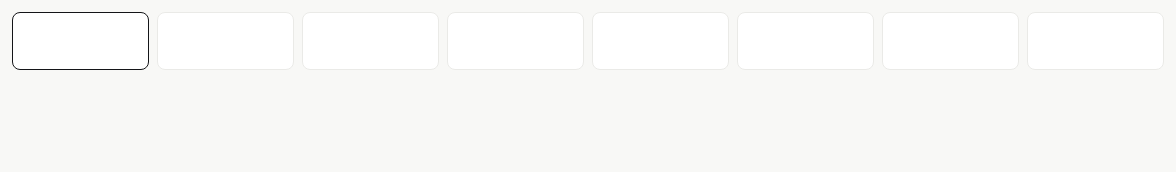
Test: EC-8: the code boxes per channel › fills every box from a pasted eight-letter code, upper-cased, and ignores what the alphabet lacks
The width and height of the screenshot is (1176, 172).
Step 1. Type "abcd efgh" into the field named "Letter 1" → point(80, 41), box [12,12,149,70]
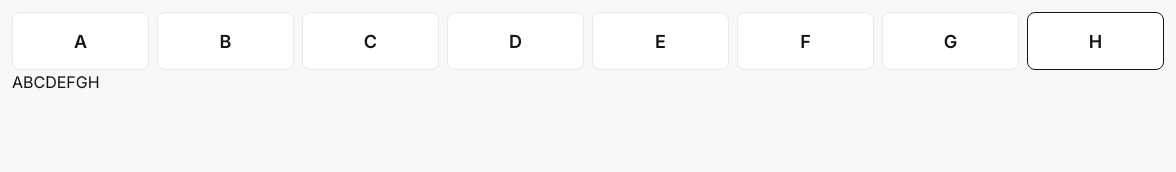
Result: the text with test id "value" reads "ABCDEFGH" at [12,72,100,92]
Step 2. Replace the text in the field named "Letter 1" with "io12qrst" → point(80, 41), box [12,12,149,70]
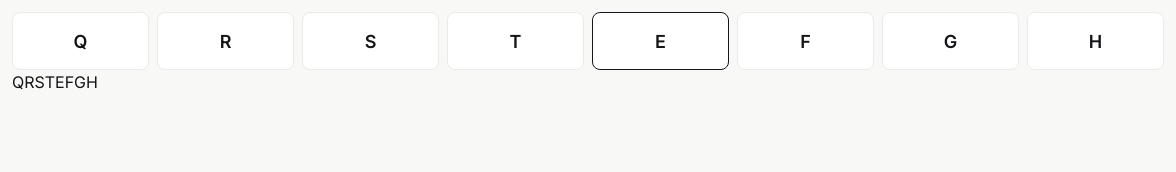
Result: the text with test id "value" reads "QRSTEFGH" at [12,72,98,92]
